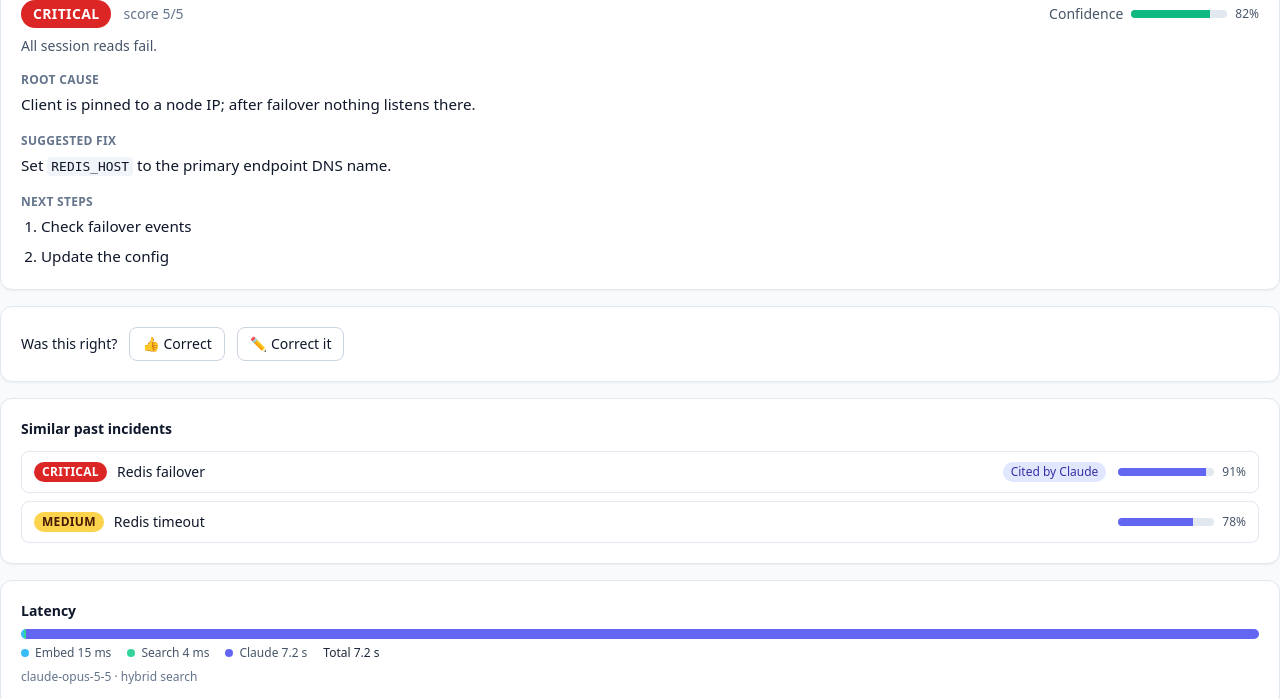
Feedback › can mark wrong without adding to the library
Step 1. Click the button "✏️ Correct it" → (291,344), box top-left (237, 327), bottom-right (344, 361)
(page scrolled)
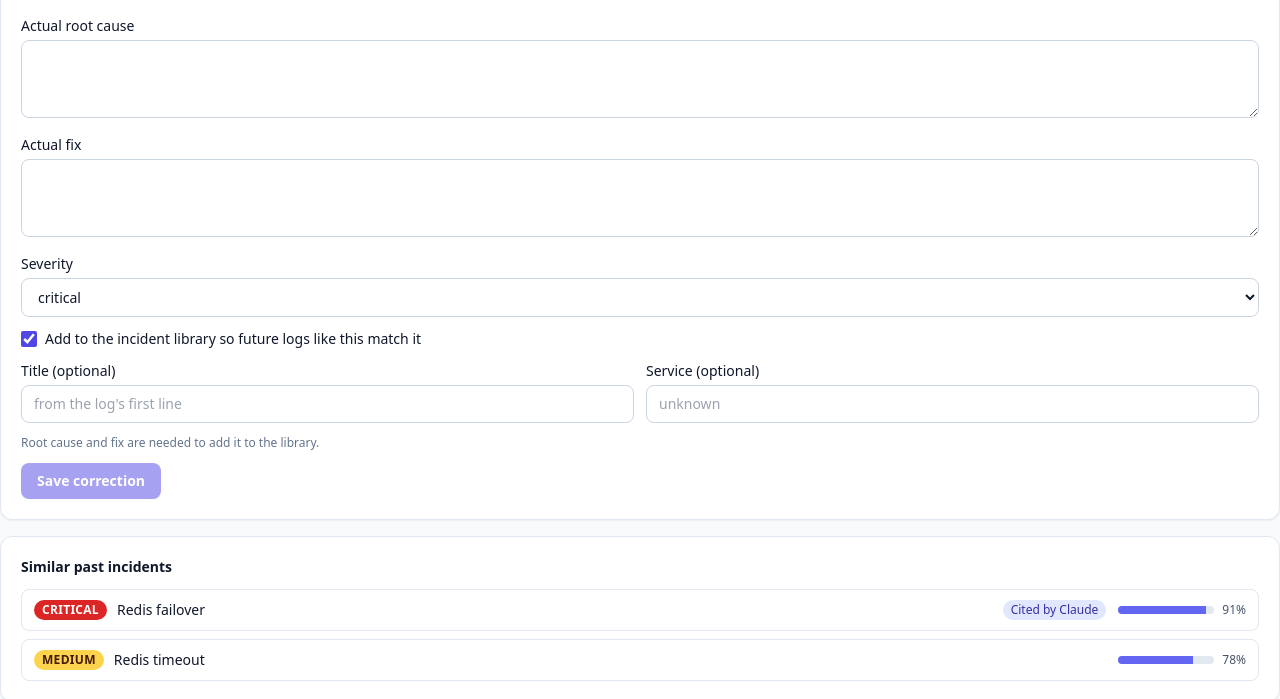
Step 2. Click the checkbox labelled "Add to the incident library" → (29,339), box top-left (21, 331), bottom-right (37, 347)
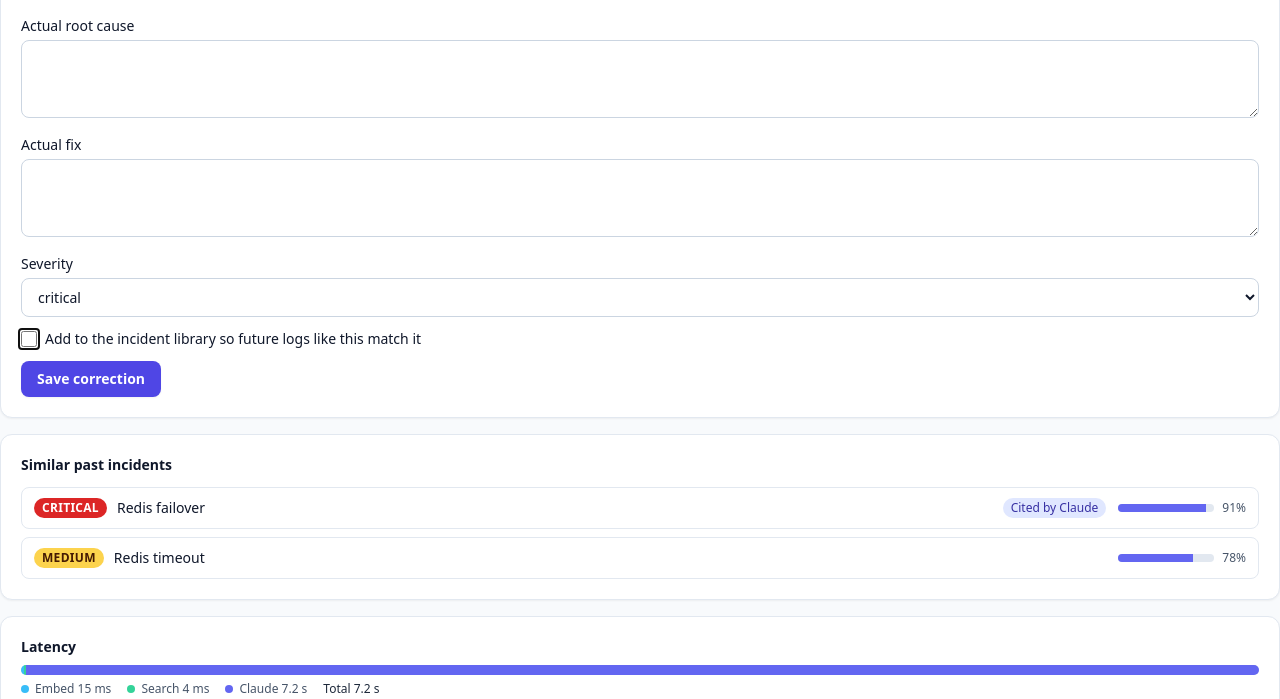
Step 3. Click the button "Save correction" → (91,379), box top-left (21, 361), bottom-right (161, 397)
(page scrolled)
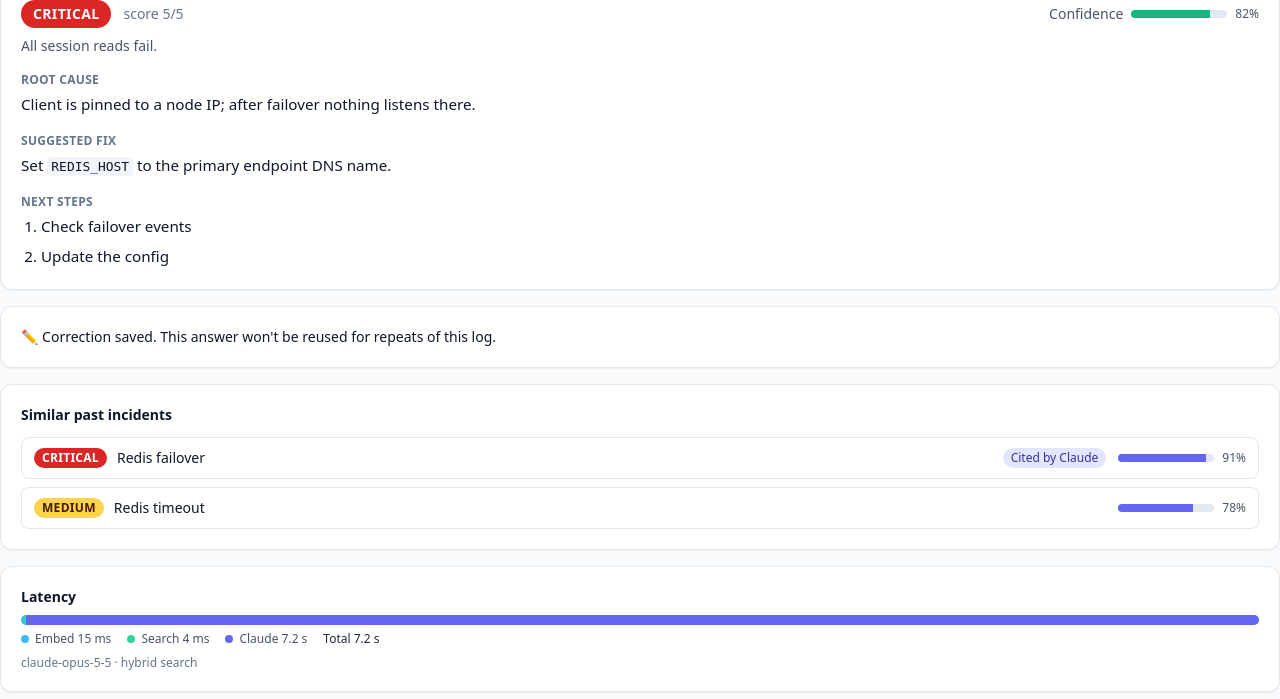
Check: the message with test id "feedback-done" shows "won't be reused", box top-left (157, 327), bottom-right (496, 346)
